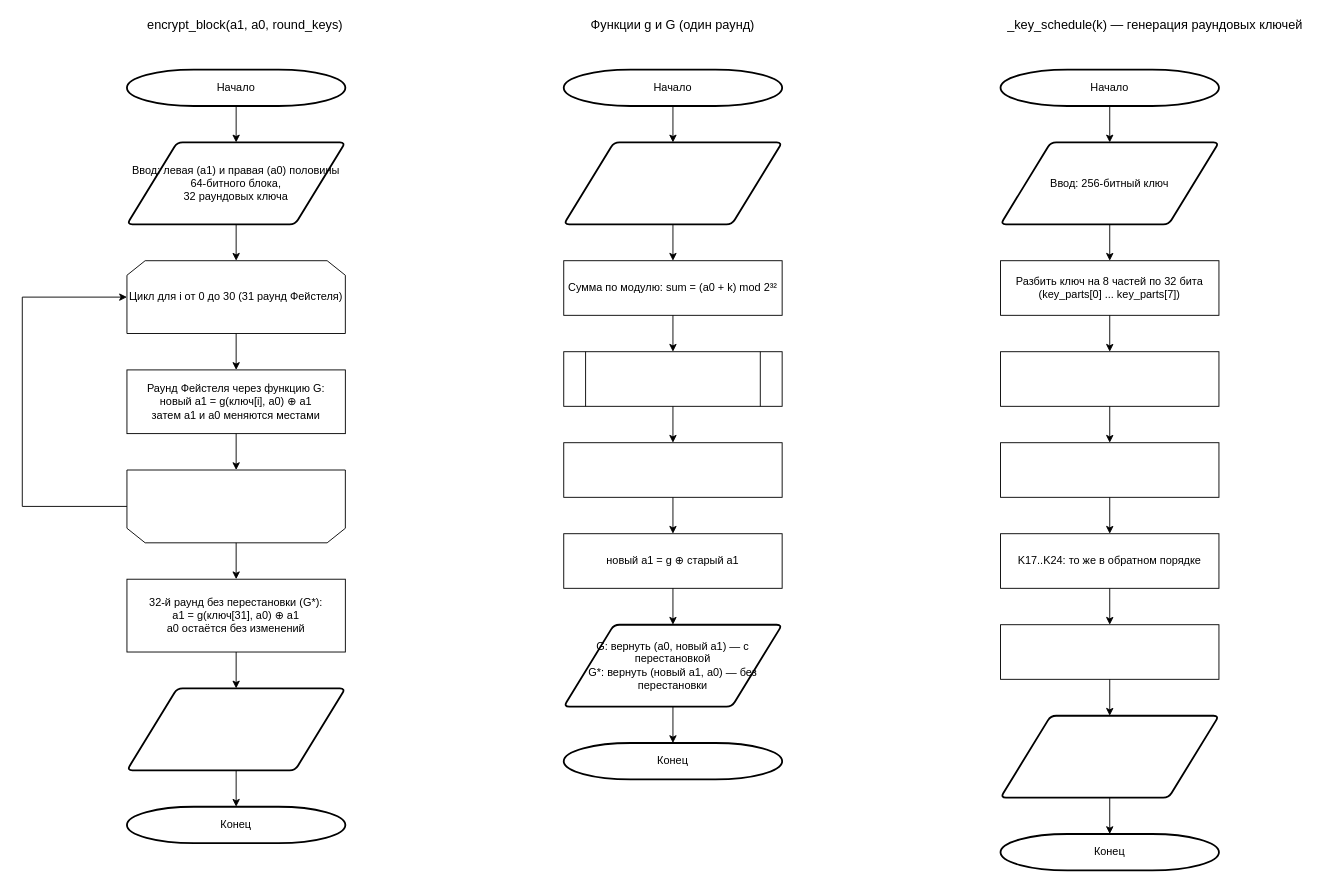
This 1326x886 diagram has some shape labels left out. The shapes that lost their labels are listed below. From the top down, each one's centre as x and y in pixels, then its label:
point (672, 183): Ввод: раундовый ключ k и полублоки a0, a1 (по 32 бита каждый)
point (672, 378): Нелинейная замена: каждая тетрада суммы подставляется через S-блок — t(sum)
point (1109, 378): K1..K8: части ключа в обратном порядке (от 7-й до 0-й)
point (672, 469): g = циклический сдвиг результата на 11 бит влево (ROT11)
point (1109, 469): K9..K16: то же в обратном порядке
point (1109, 651): K25..K32: части ключа в прямом порядке (от 0-й до 7-й)
point (236, 729): Возврат зашифрованного блока: конкатенация a1 и a0 (64 бита)
point (1109, 756): Возврат 32 раундовых ключей
